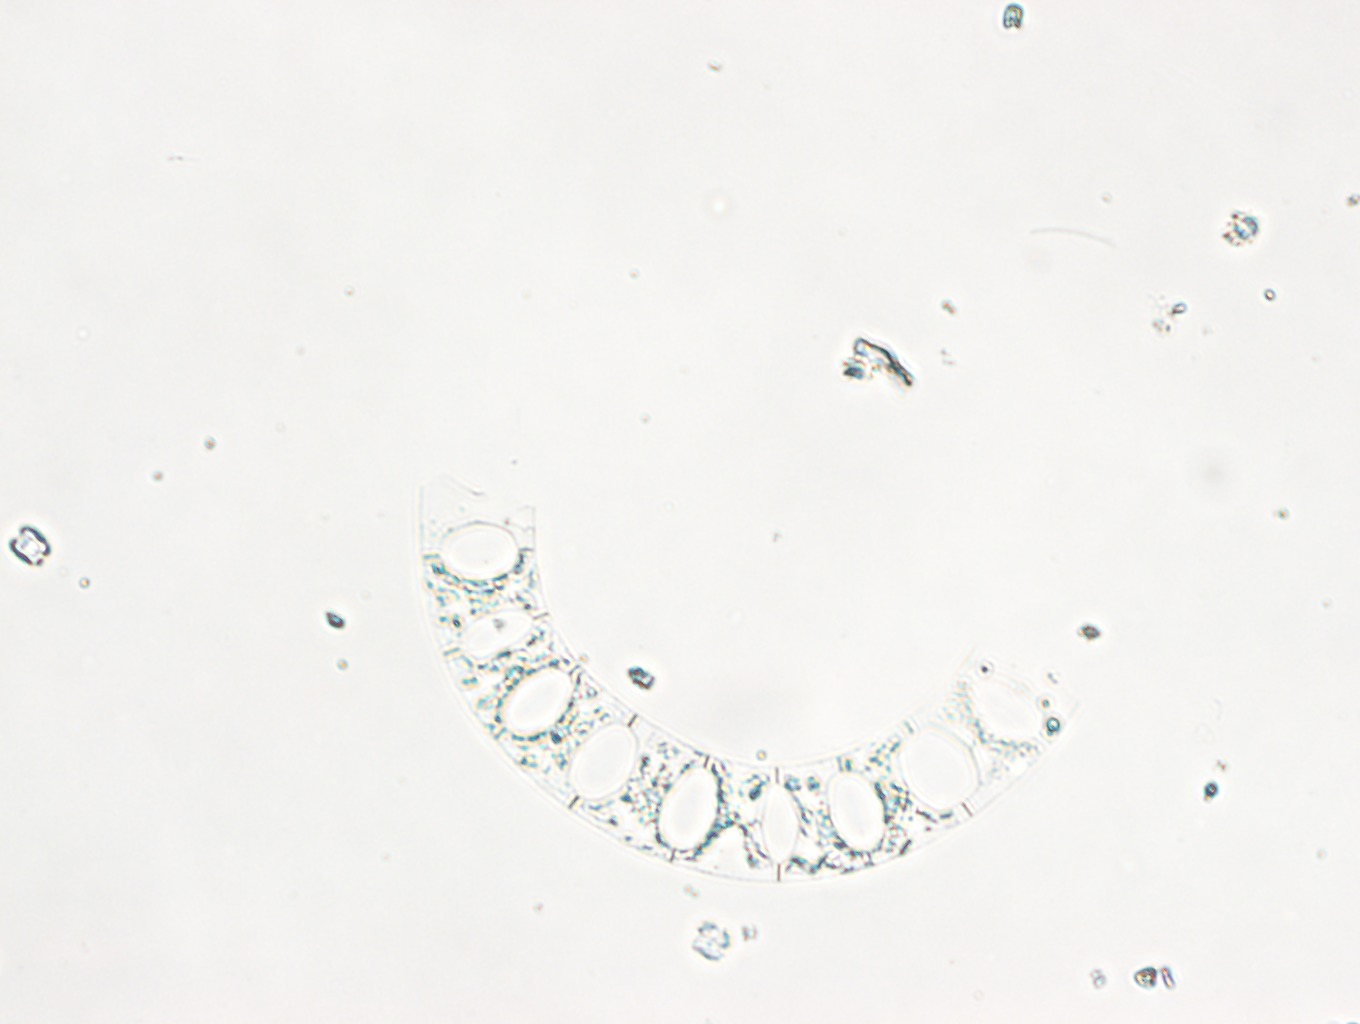eucampia: (415, 459, 1080, 884)
